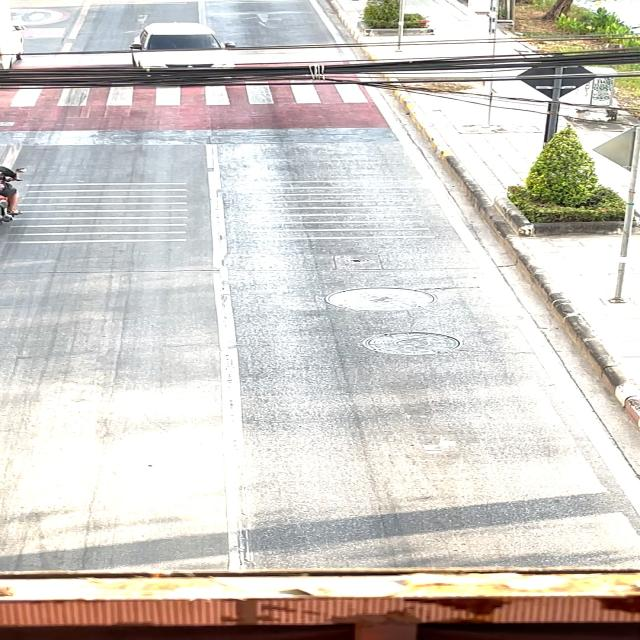car: (119, 12, 239, 84)
